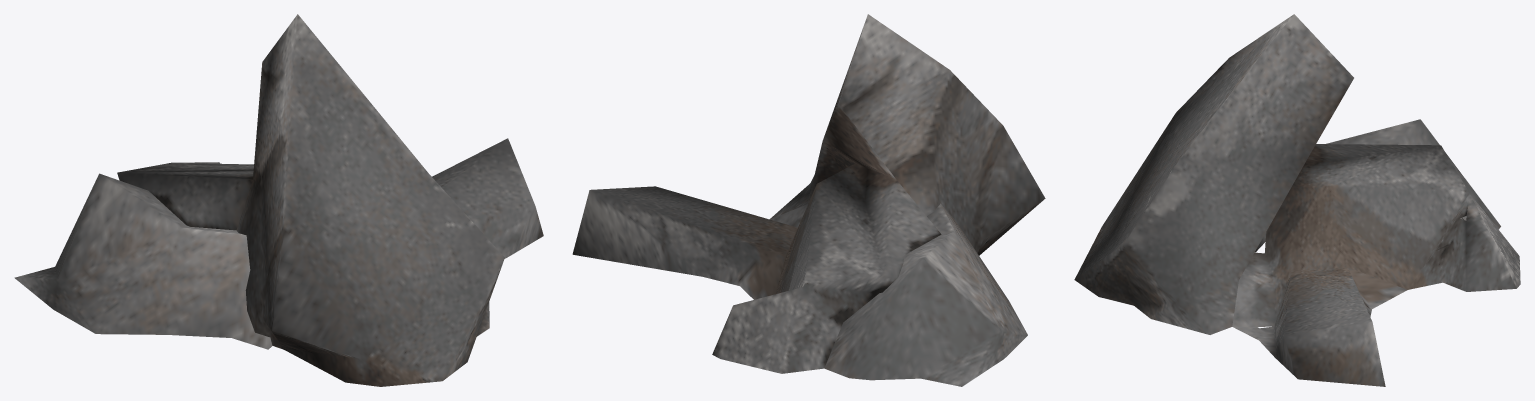
The model's file is forest_rock_1.glb.
3 views of the same model, side by side, from view 1: azimuth 30°, elevation 25°; view 2: azimuth 150°, elevation 25°; view 3: azimuth 270°, elevation 25° (orthographic). The views are drawn at different scales.
Parts seen in each view (by area): view 1: Rocks.001_Rocks_0; view 2: Rocks.001_Rocks_0; view 3: Rocks.001_Rocks_0.
Part boxes in pixels (x1,y1,x2,y2): Rocks.001_Rocks_0: (14,14,543,386); Rocks.001_Rocks_0: (572,14,1045,386); Rocks.001_Rocks_0: (1074,14,1520,386).
Size of the model in its own units: 3.19 by 1.93 by 2.98.
1 material, 1 textured.
